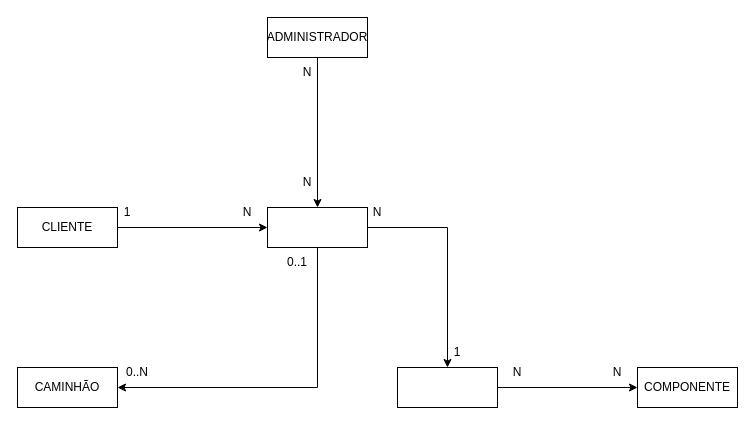
Image size: 755x425. Some labels were removed from this diagram. Here are the shapes that lost their labels. From the top down, the box of each, then its label:
(266, 206, 368, 248): AGENDAMENTO
(396, 366, 498, 408): MOTOR
